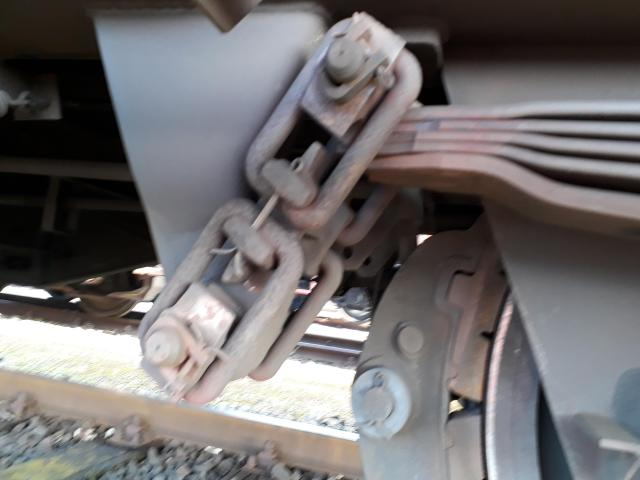blattfederww: (324, 81, 640, 213)
